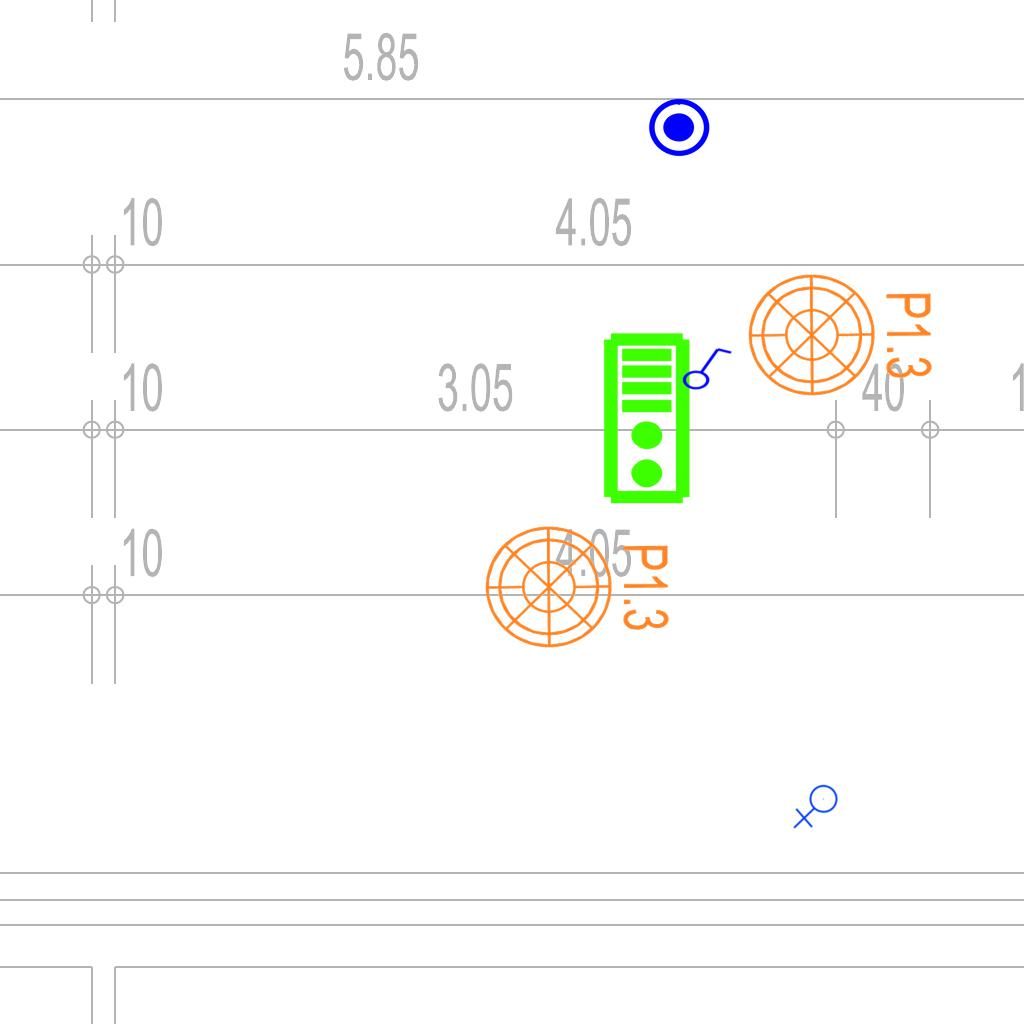Aufbaurundleuchte_LED_Treppenhaus: (745, 271, 950, 410), (482, 523, 687, 662)
Ausschalter: (677, 343, 733, 391)
Elektroanschluss_allgemein_230V_Geraeteanschlussdose_230V: (792, 783, 843, 832)
Gegensprechanlage_mit_Video: (601, 331, 696, 507)
Taster: (646, 92, 712, 158)
